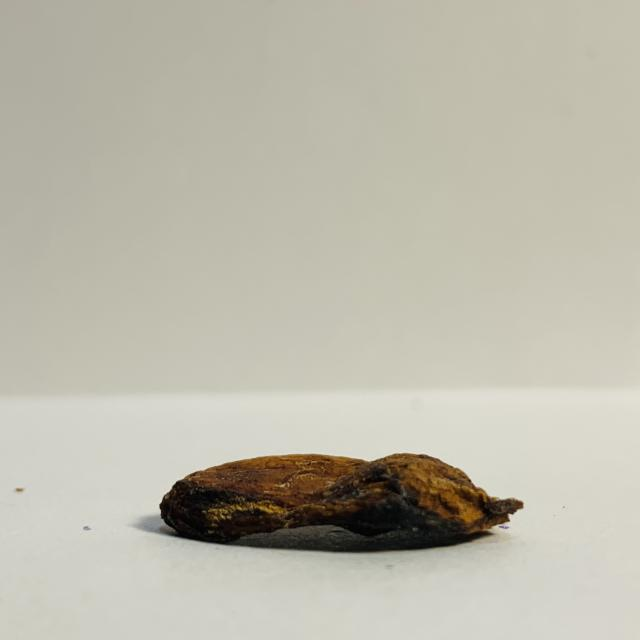Flat_cocoabeans: (92, 413, 582, 577)
